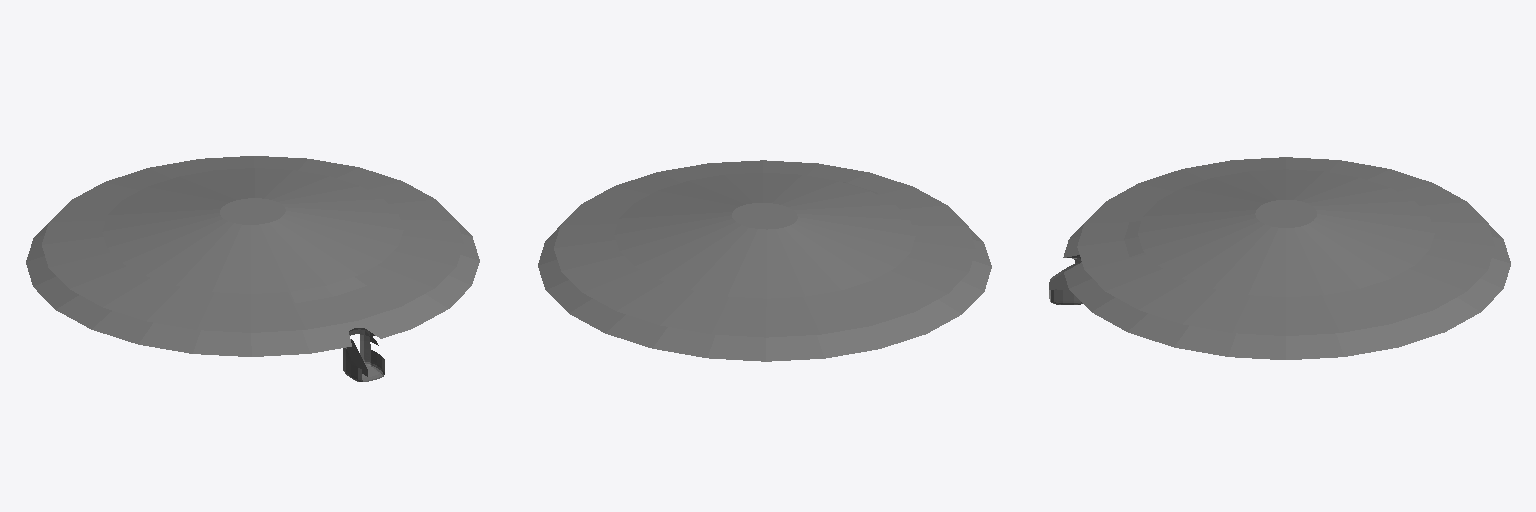
Rendered from Top_Kamino.obj.
The picture shows the model from 3 angles: view 1: azimuth 30°, elevation 25°; view 2: azimuth 150°, elevation 25°; view 3: azimuth 270°, elevation 25°; orthographic projection.
Visible parts, largest first — view 1: Top_Kamino.obj; view 2: Top_Kamino.obj; view 3: Top_Kamino.obj.
Boxes of the visible parts, box(x1,y1,x2,y2) form: Top_Kamino.obj: box(26, 156, 479, 381); Top_Kamino.obj: box(538, 160, 991, 361); Top_Kamino.obj: box(1049, 157, 1510, 359).
Size of the model in its own units: 8056 by 1644 by 8178.